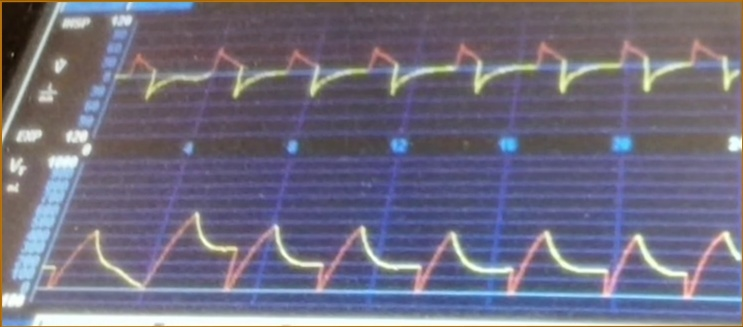Flow: (130, 26, 737, 132)
Leakage Volume: (67, 198, 739, 311)
